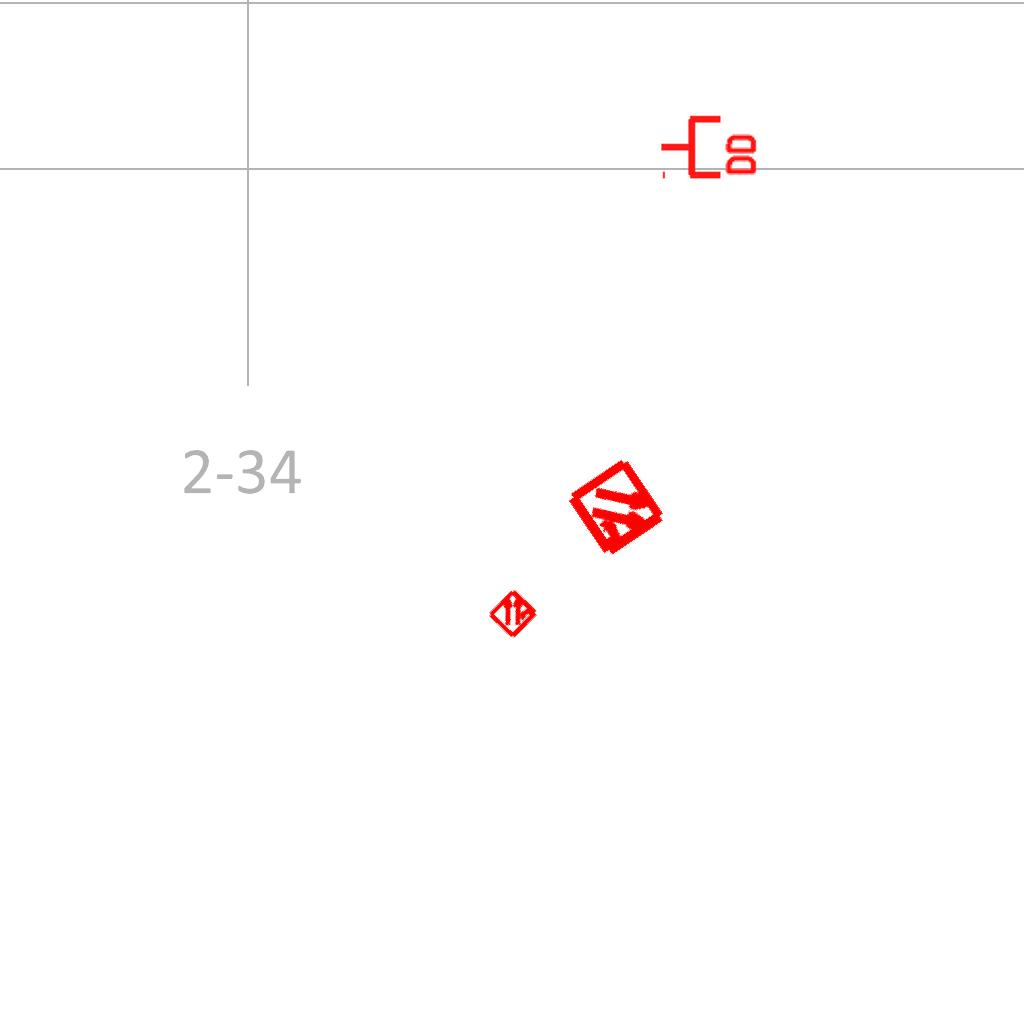Datenanschluss_zweifach: (658, 111, 761, 180)
OT_Multisensormelder_(Kombination_RMO_WMD): (539, 431, 696, 588), (474, 573, 554, 653)
